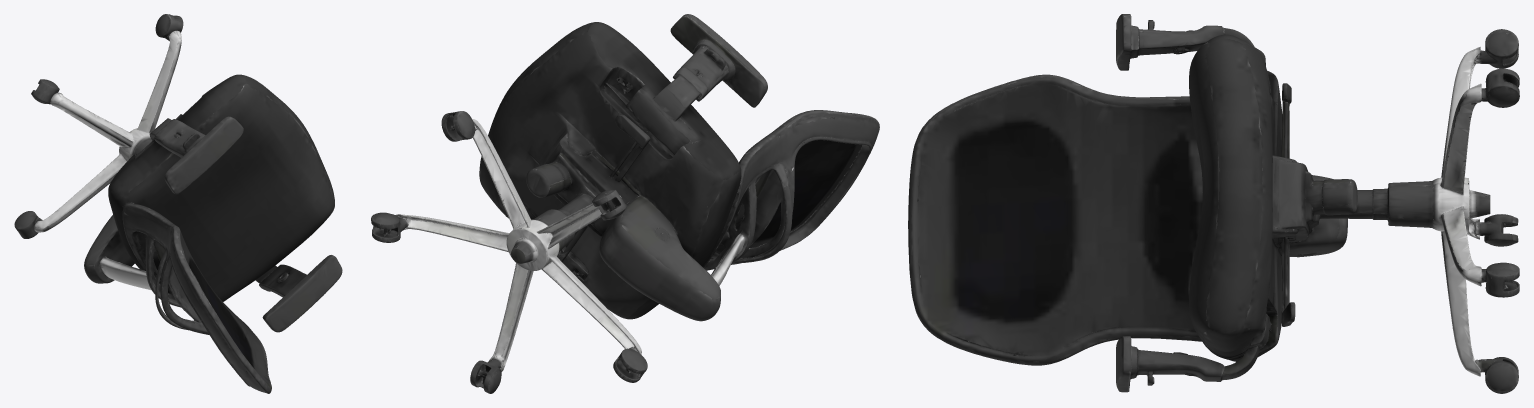
3 views of the same model, side by side, from view 1: azimuth 30°, elevation 25°; view 2: azimuth 150°, elevation 25°; view 3: azimuth 270°, elevation 25° (orthographic). The views are drawn at different scales.
Visible parts, largest first — view 1: Pratham.001; view 2: Pratham.001; view 3: Pratham.001.
Boxes of the visible parts, box(x1,y1,x2,y2) form: Pratham.001: box(14, 14, 342, 393); Pratham.001: box(371, 14, 879, 393); Pratham.001: box(908, 14, 1519, 393).
Bounding box in the file's own units: 0.0212 × 0.0209 × 0.0323.
Materials: 1 (1 with a texture image).
